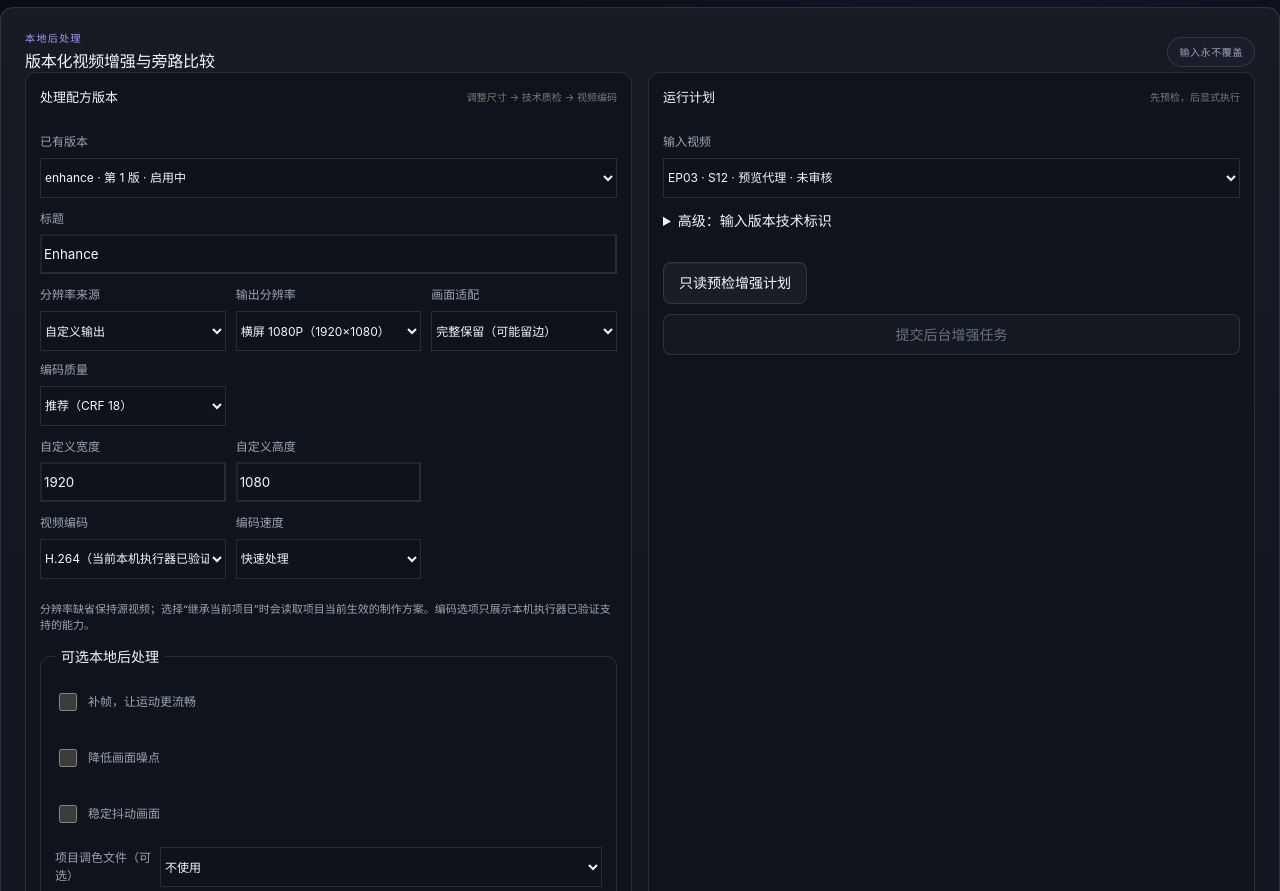
PostProcessPanel › requires read-only planning before running and renders input/output comparison
Expected: the button "提交后台增强任务" is disabled, [663,314,1240,355]
What coordinates should you click on to do the following:
click the button "只读预检增强计划"
I would click on:
 (735, 283)
Its box is [663,262,807,304].
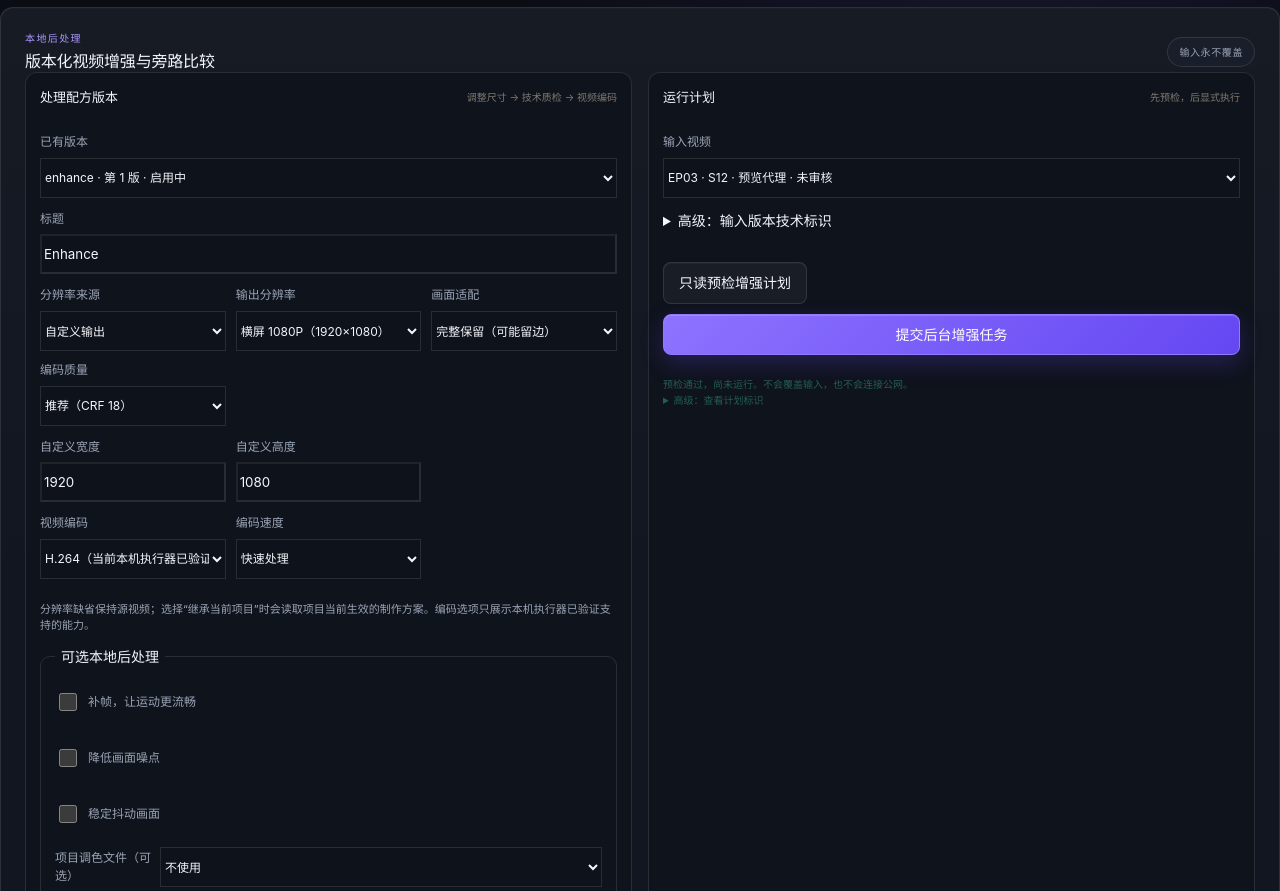
Now the text "预检通过，尚未运行。" is shown, box [663,378,763,390]
Now the button "提交后台增强任务" is enabled
What coordinates should you click on to do the following:
click the button "提交后台增强任务"
I would click on:
 (952, 334)
Its box is [663,314,1240,355].
(page scrolled)
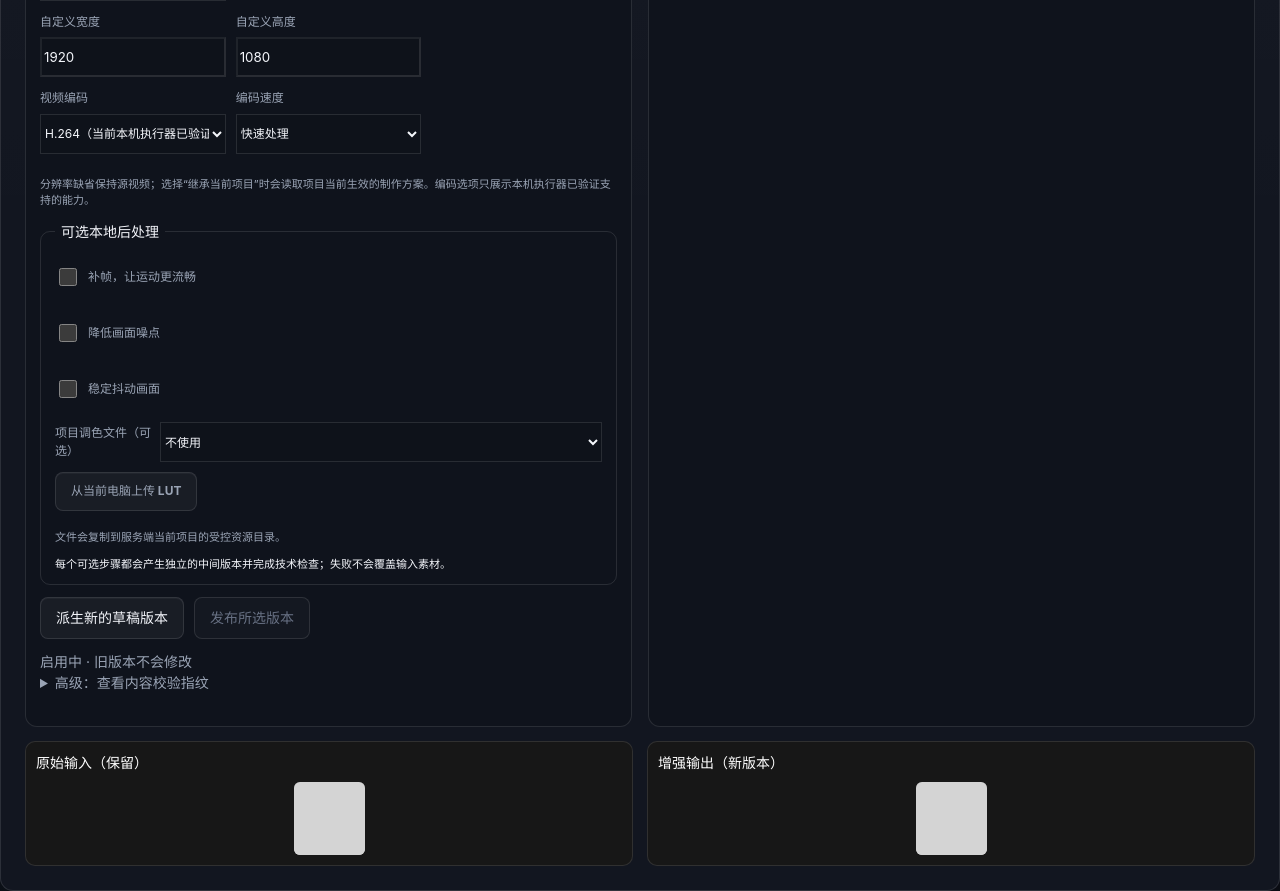
Now the element named "增强前后旁路比较" is shown, box [25,742,1255,866]
